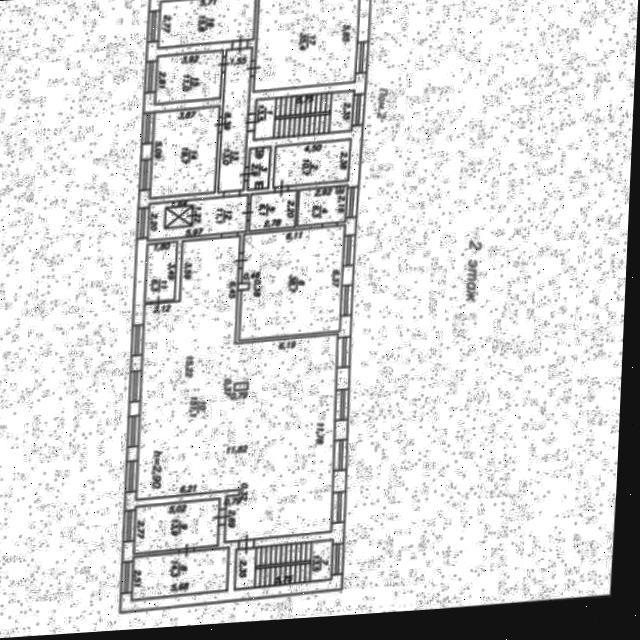room: (136, 234, 341, 545), (240, 222, 345, 344), (255, 0, 359, 90), (151, 103, 219, 201), (130, 548, 234, 599), (232, 540, 338, 589), (252, 91, 358, 139), (133, 499, 224, 553), (219, 46, 252, 193), (158, 0, 255, 47), (146, 196, 251, 239), (271, 140, 355, 187), (152, 51, 226, 103), (296, 187, 351, 226), (145, 240, 179, 303), (248, 191, 300, 231), (248, 146, 271, 191), (164, 205, 194, 227)
